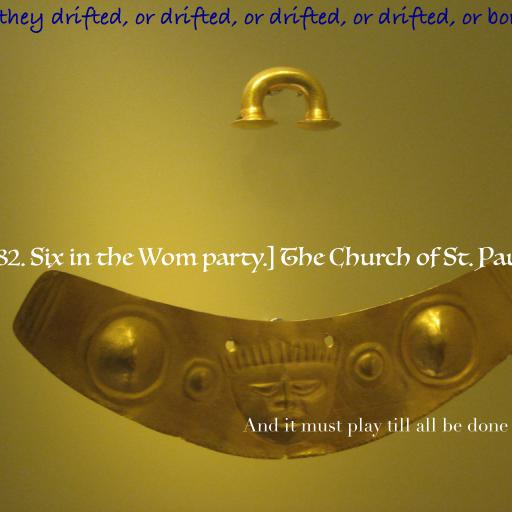Bradley Hand: (0, 6, 512, 33)
Didot: (242, 417, 508, 437)
Luminari: (0, 245, 512, 273)
